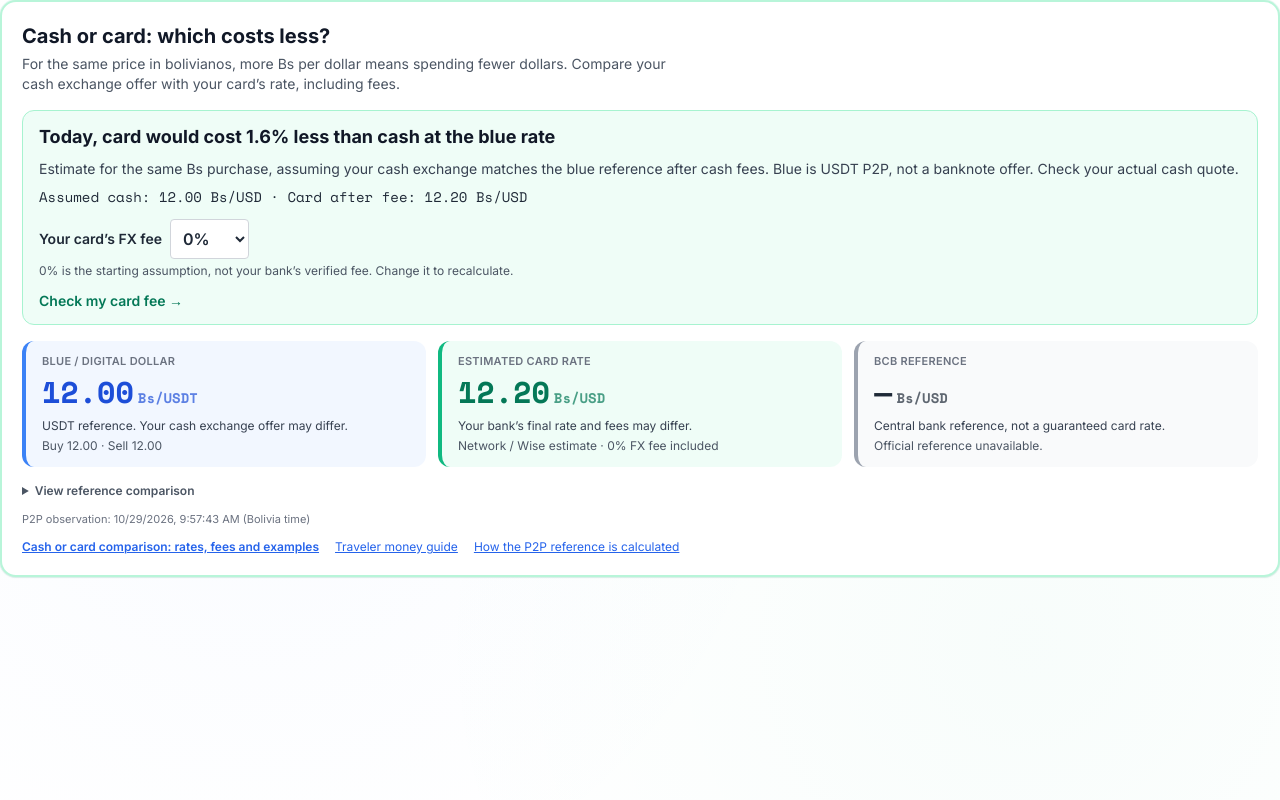
Scenario: reverses outcome after fee change
Check: the text "Today, card" is shown, box [39, 126, 555, 147]
Select "3%" in the dropdown. click: (209, 239)
box: [170, 219, 249, 259]
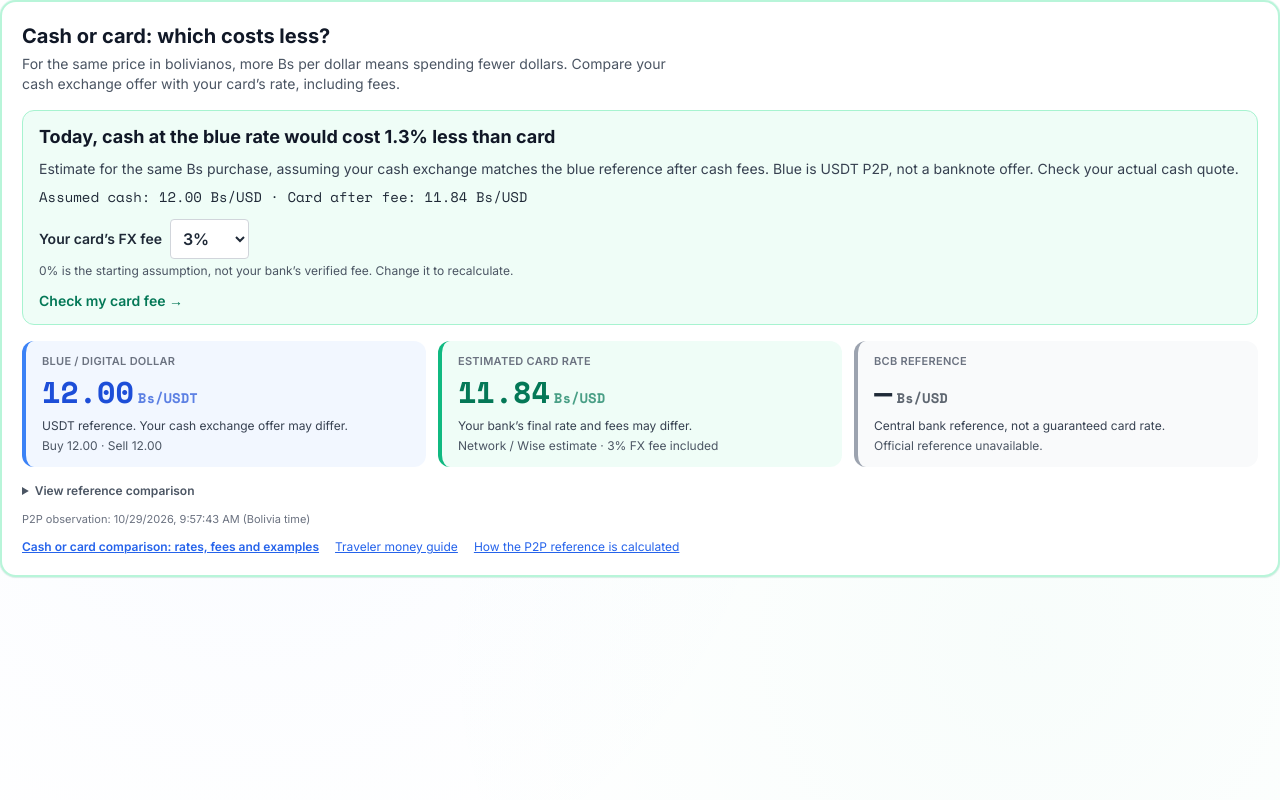
Check: the text "Today, cash" is shown, box [39, 126, 555, 147]
Check: the text "1.3%" is shown, box [39, 126, 555, 147]
